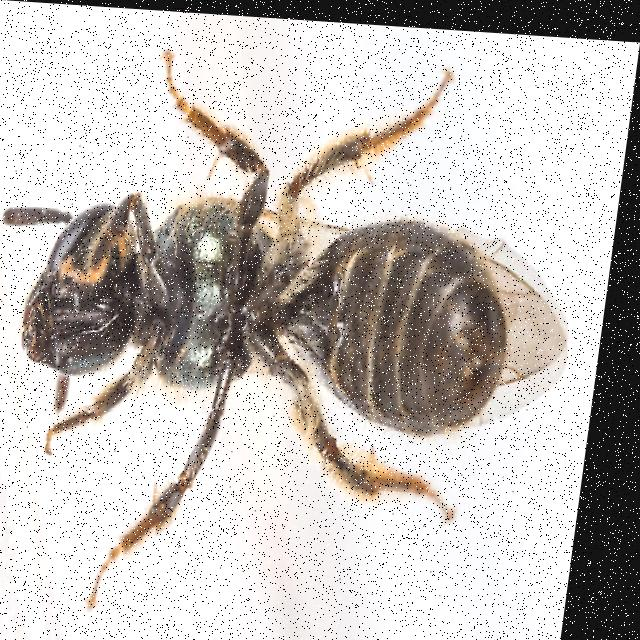Lasioglossum: (0, 44, 575, 609)
